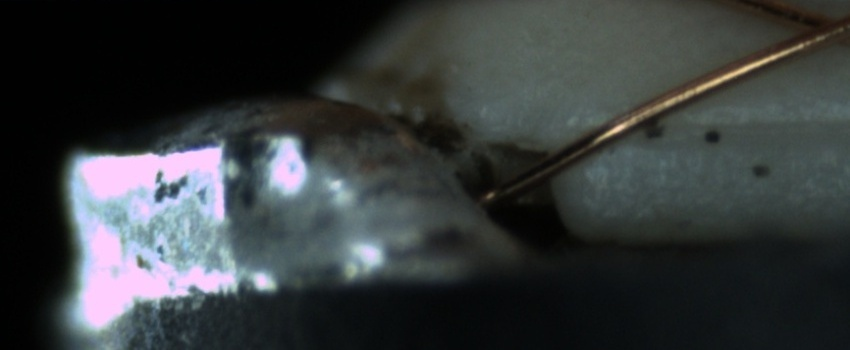CL: (773, 2, 850, 57)
DL: (622, 91, 846, 162)
